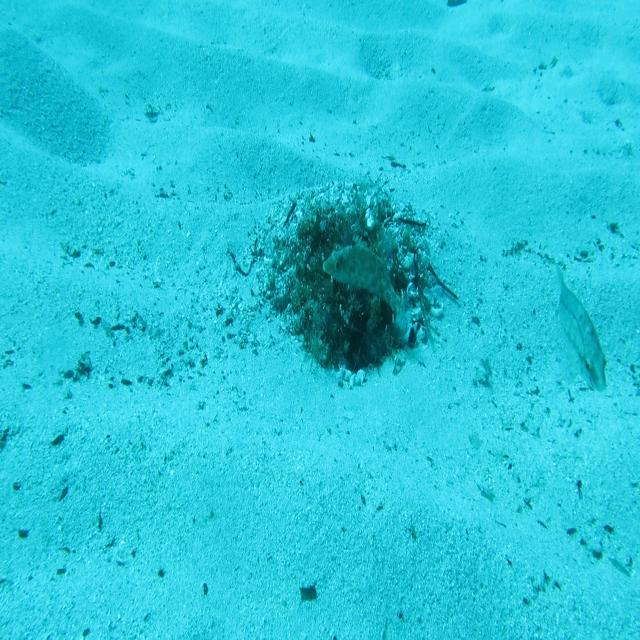LF: (318, 229, 414, 348)
core_nest: (318, 220, 361, 255)
female: (552, 258, 610, 396)
nest: (252, 160, 448, 398)
vegetation: (298, 584, 319, 602), (446, 0, 471, 10)
